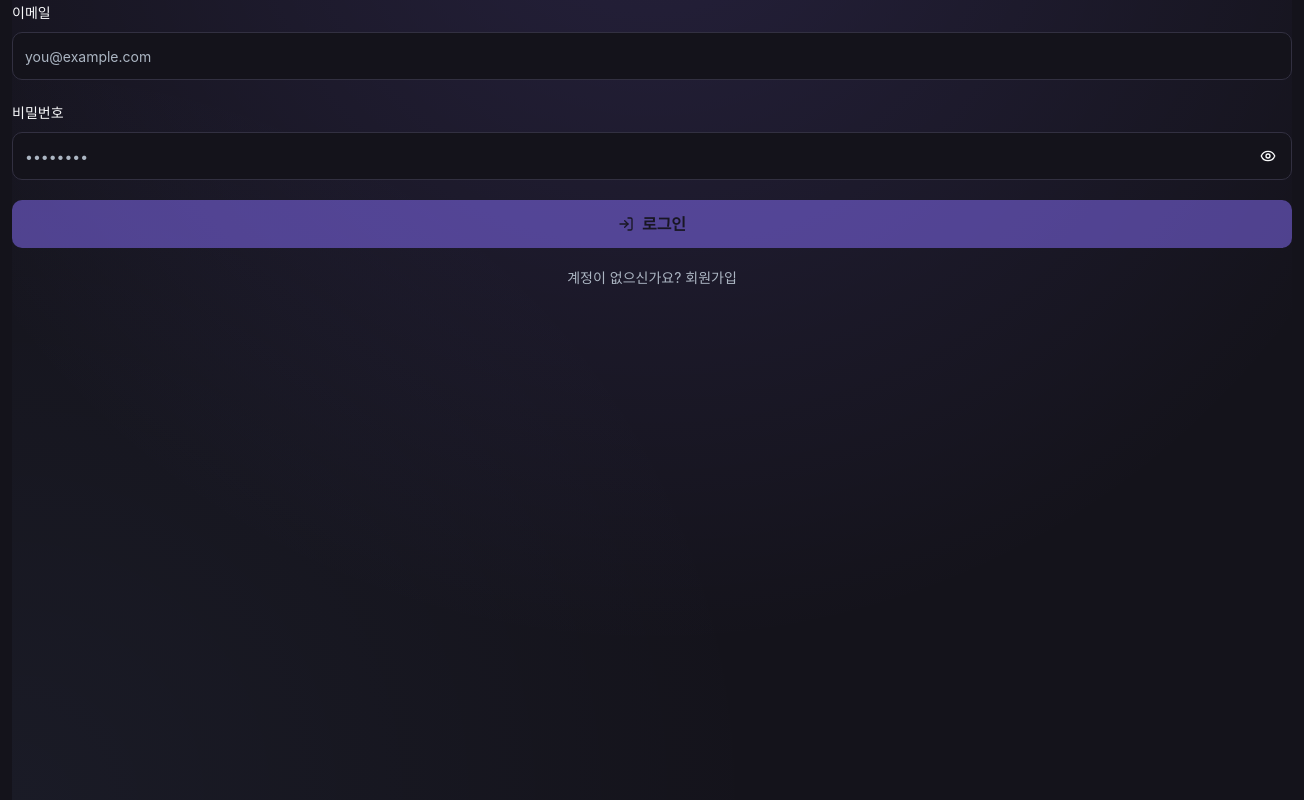
Test: LoginForm › 잘못된 이메일 입력 시 실시간 에러를 표시해야 합니다.
Type "invalid-email" into the field named "이메일 입력" at (652,56), box [12,32,1292,80]
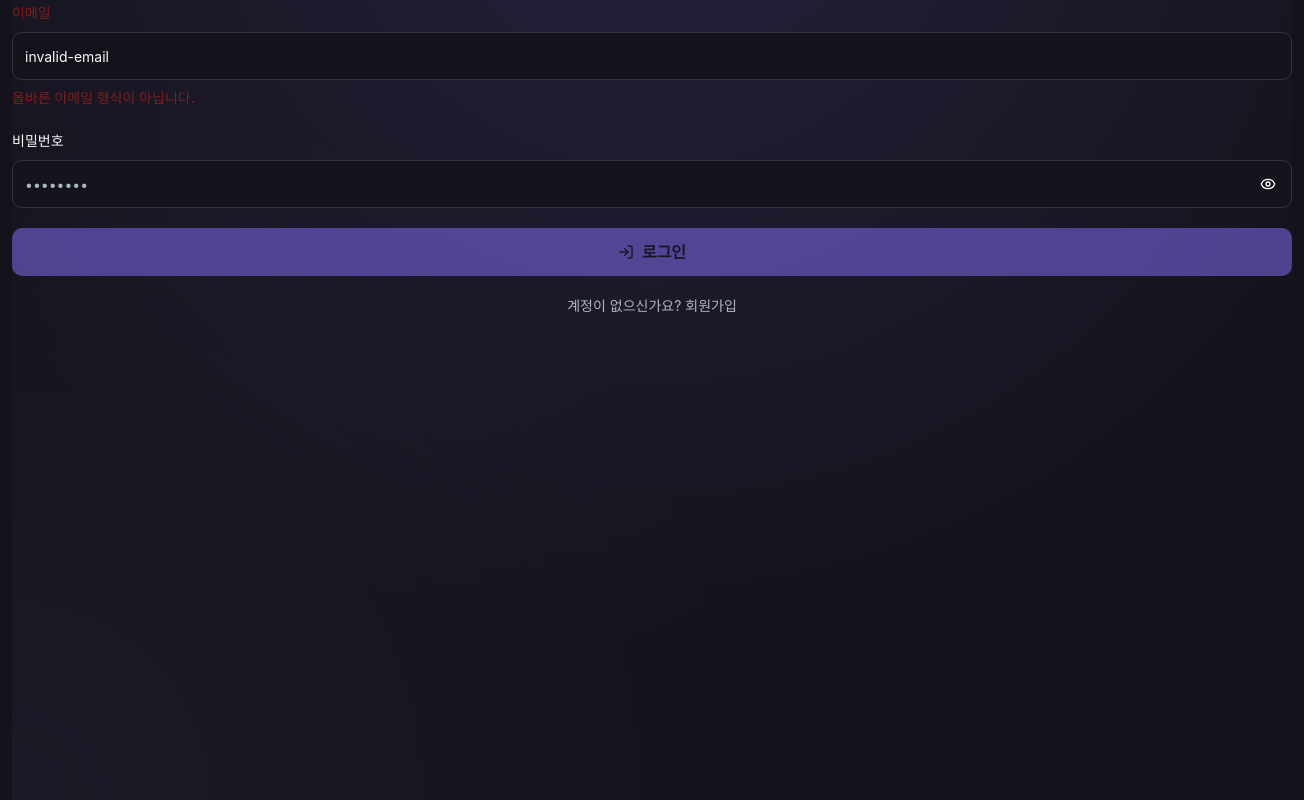
Check: the text "올바른 이메일 형식이 아닙니다." is shown, box [12,89,195,106]
